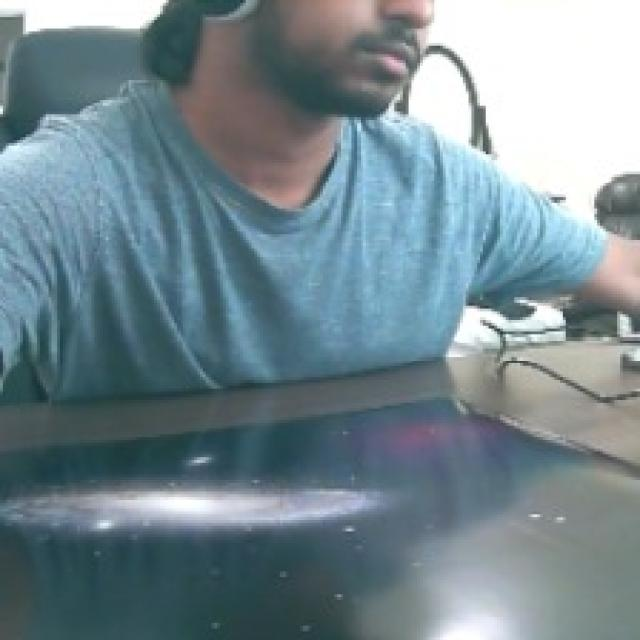Galaxy: (0, 482, 398, 535)
